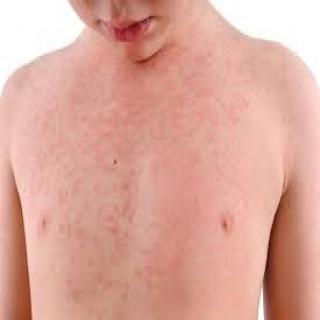urticaria: (77, 84, 195, 299)
